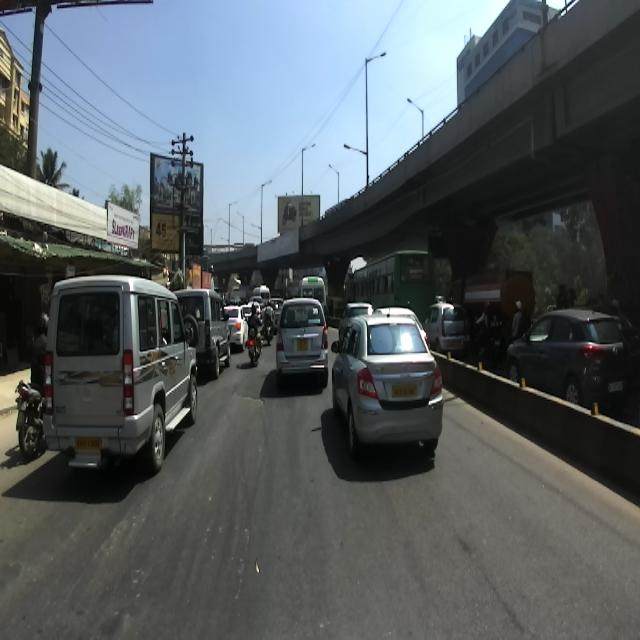car ahead at: (46, 268, 205, 488), (330, 314, 445, 471), (274, 289, 329, 390)
motorcycle ahead at: (242, 328, 266, 371)
